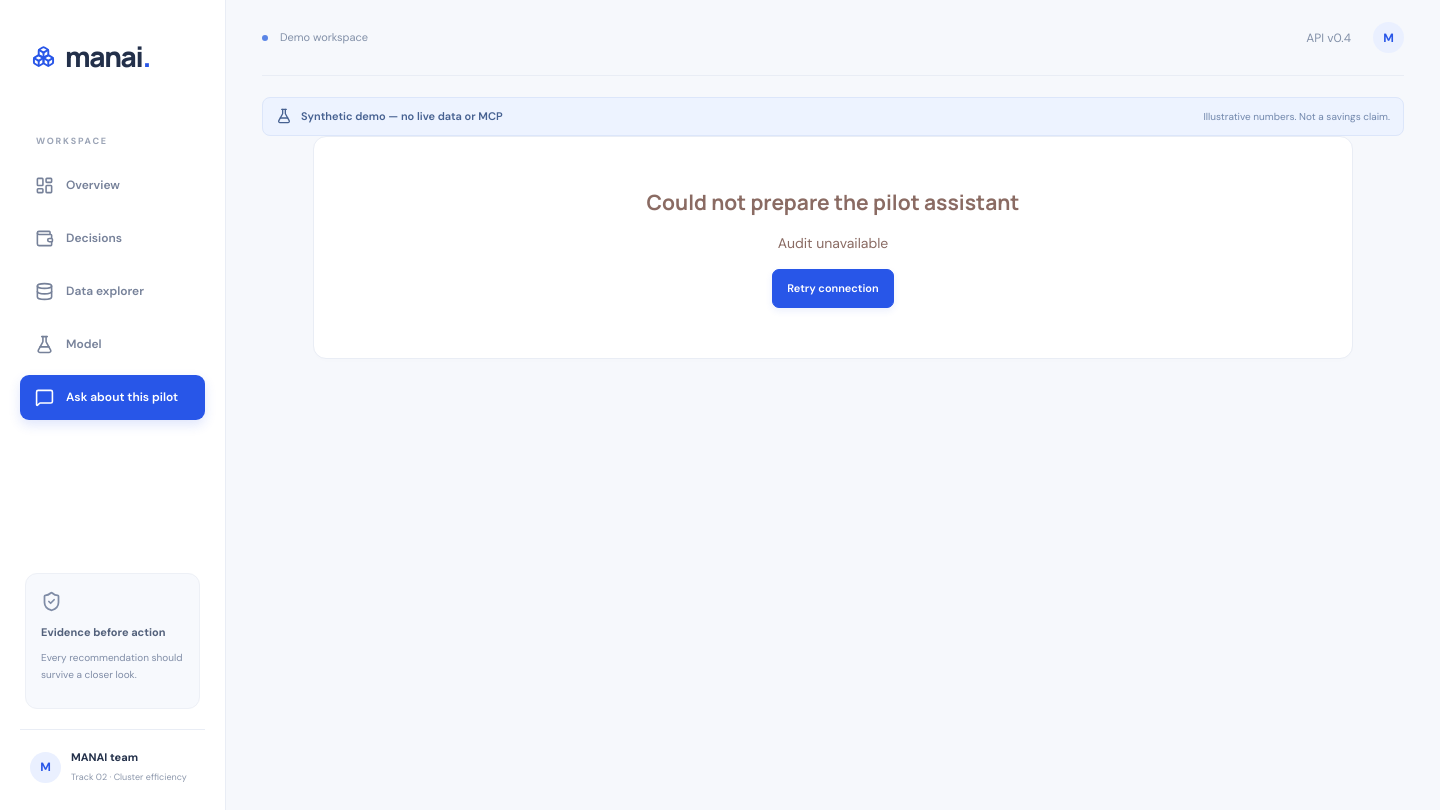
Test: CFO journey › allows a failed assistant audit to be retried without fake answers
Expected: the message "Could not prepare the pilot assistant Audit unavailable Retry connection" is shown, [313, 136, 1353, 358]
Expected: the button "Why this pilot?" is not shown
Click the button "Retry connection". click: (833, 288)
box: [772, 269, 894, 308]
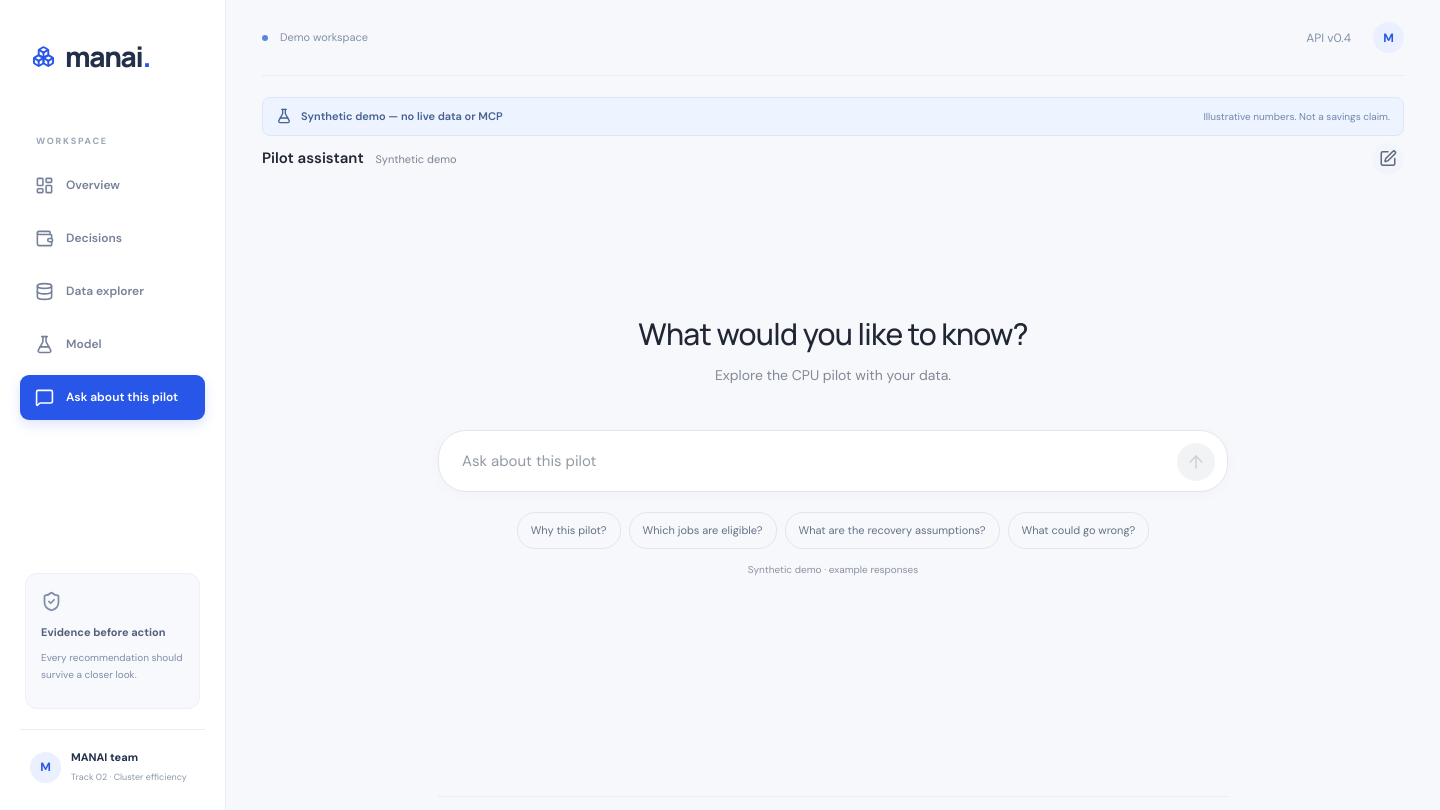
Expected: the button "Why this pilot?" is enabled, [517, 512, 621, 549]
